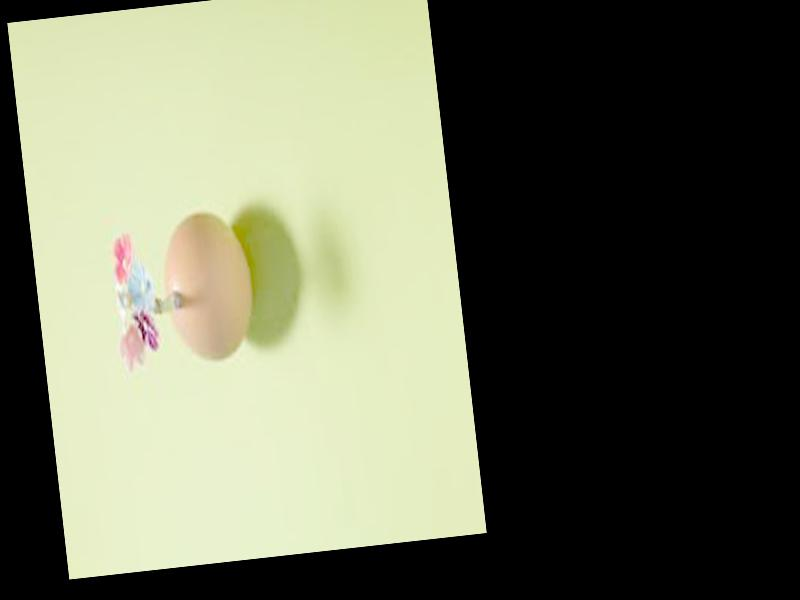Eggs: (158, 209, 259, 364)
